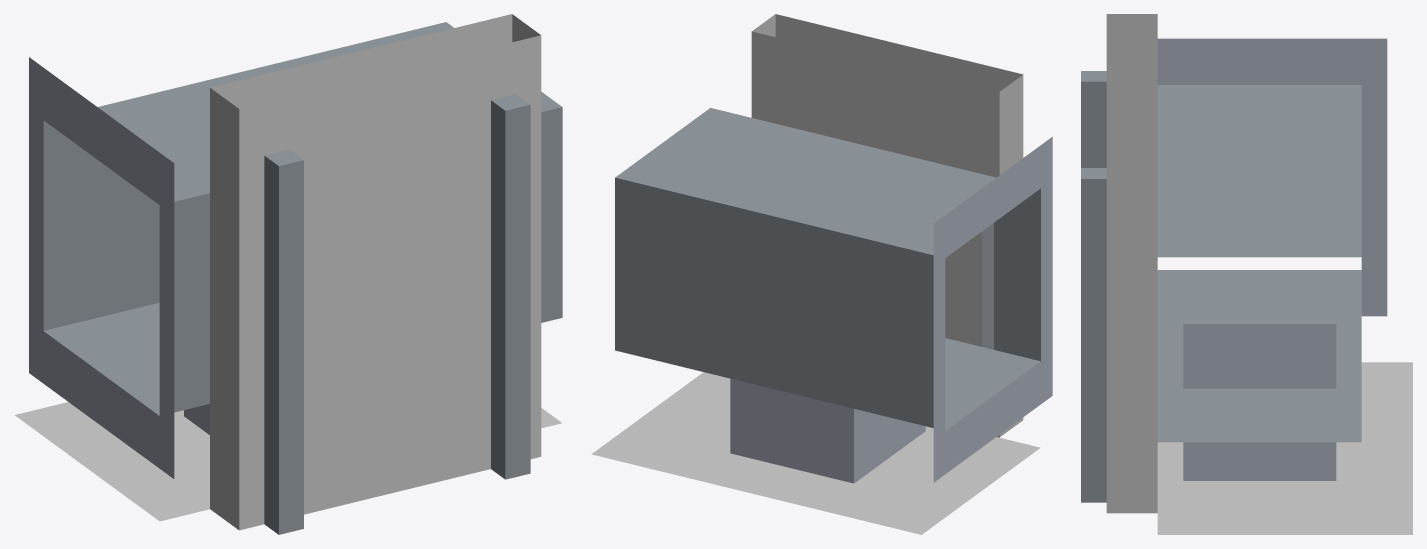
Rendered from cell_34.obj.
The picture shows the model from 3 angles, left to right: view 1: azimuth 30°, elevation 25°; view 2: azimuth 150°, elevation 25°; view 3: azimuth 270°, elevation 25°; orthographic projection. The views are drawn at different scales.
Bounding box in the file's own units: 1 × 1 × 0.8125.
